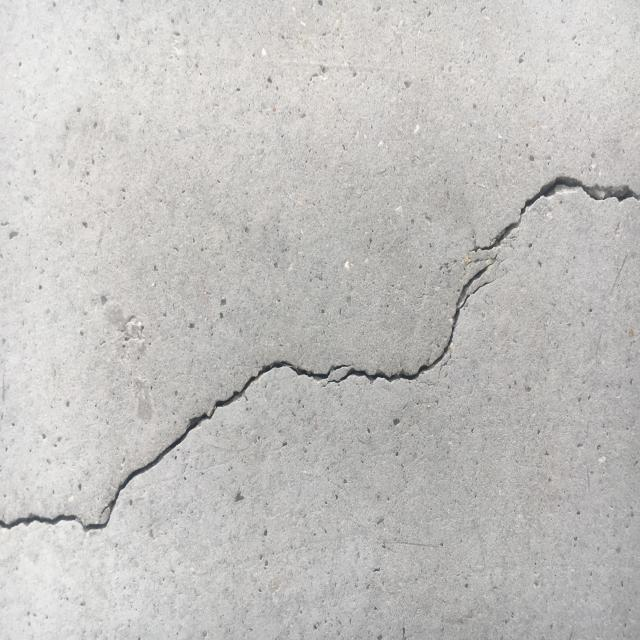SurfaceCrack: (1, 89, 640, 596)
